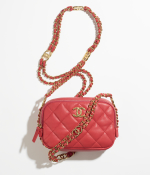channel: (38, 84, 126, 152), (57, 127, 92, 148), (69, 106, 92, 121)
